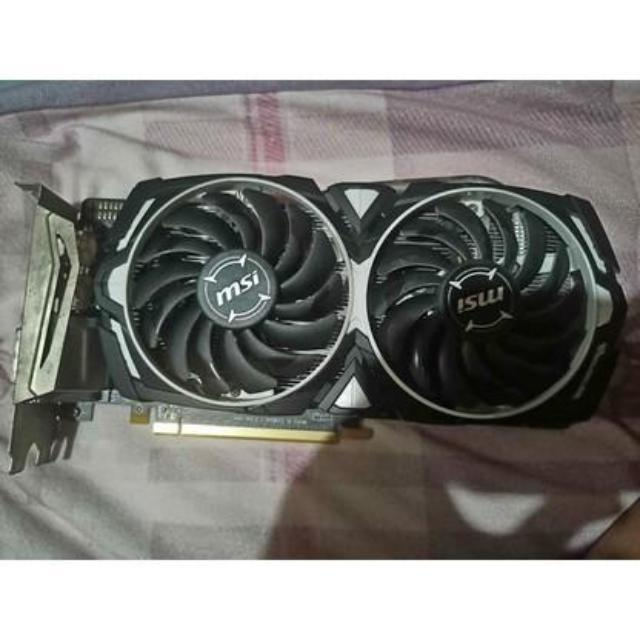GPU: (0, 168, 637, 446)
